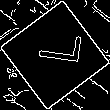L_W: (28, 36, 82, 74)
